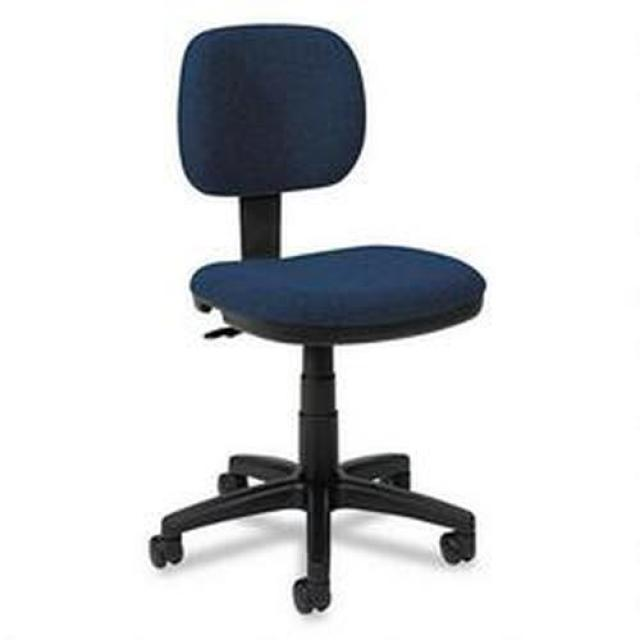swivelchair: (148, 24, 489, 617)
